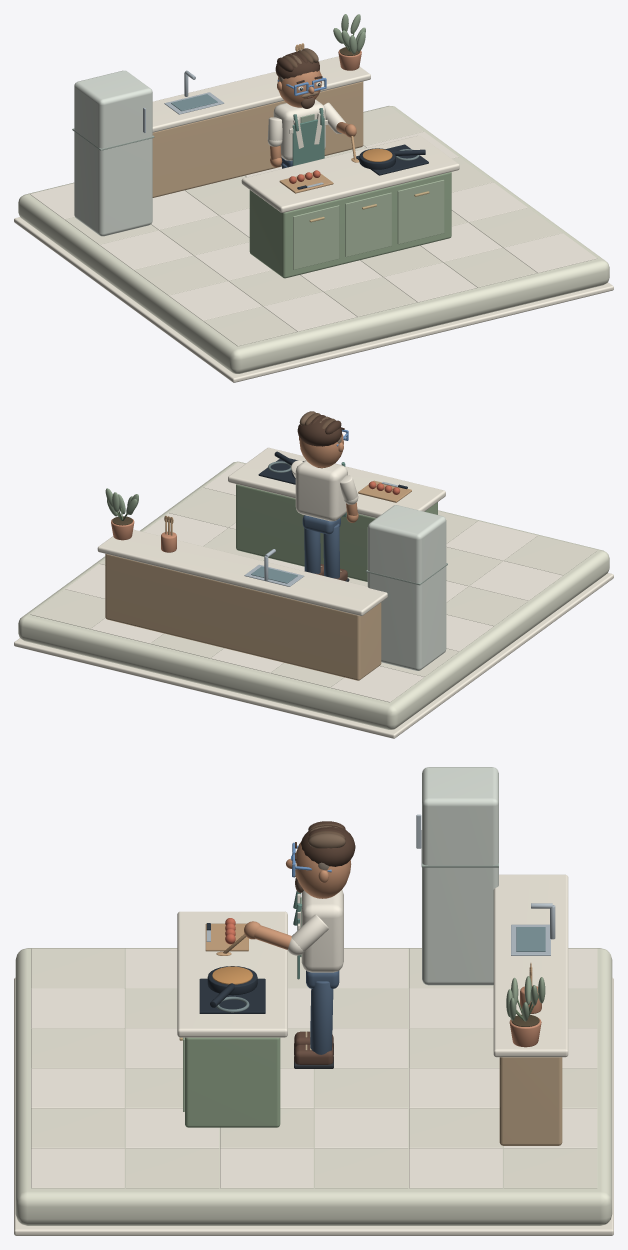
File: cooking.glb
3 renders of one model, top to bottom at view 1: azimuth 30°, elevation 25°; view 2: azimuth 150°, elevation 25°; view 3: azimuth 270°, elevation 25°, orthographic. The views are drawn at different scales.
Parts seen in each view (by area): view 1: Square floating plinth.005, Refrigerator, Oak cabinets, Marble worktop, Island cabinet, Ivory lower edge.005, Countertop, Cabinet front.002, Cabinet front, Cabinet front.001, Floor tile.011, Floor tile.023 (+27 smaller); view 2: Square floating plinth.005, Oak cabinets, Refrigerator, Countertop, Island cabinet, Ivory lower edge.005, Marble worktop, Jacket body.005, Floor tile.004, Floor tile.005, Floor tile.011, Floor tile.003 (+22 smaller); view 3: Square floating plinth.005, Refrigerator, Countertop, Marble worktop, Island cabinet, Ivory lower edge.005, Oak cabinets, Floor tile.026, Floor tile.030, Floor tile.032, Floor tile.034, Floor tile.020 (+37 smaller).
Boxes of the visible parts, x1=… form: Square floating plinth.005: x1=18, y1=106, x2=609, y2=373; Refrigerator: x1=74, y1=70, x2=152, y2=236; Oak cabinets: x1=152, y1=81, x2=363, y2=197; Marble worktop: x1=241, y1=135, x2=459, y2=212; Island cabinet: x1=249, y1=172, x2=451, y2=278; Ivory lower edge.005: x1=14, y1=217, x2=613, y2=382; Countertop: x1=152, y1=56, x2=370, y2=132; Cabinet front.002: x1=397, y1=179, x2=444, y2=244; Cabinet front: x1=293, y1=205, x2=339, y2=269; Cabinet front.001: x1=345, y1=192, x2=391, y2=256; Floor tile.011: x1=263, y1=292, x2=356, y2=331; Floor tile.023: x1=383, y1=262, x2=476, y2=302; Square floating plinth.005: x1=18, y1=461, x2=609, y2=729; Oak cabinets: x1=105, y1=554, x2=381, y2=680; Refrigerator: x1=367, y1=505, x2=446, y2=670; Countertop: x1=97, y1=529, x2=387, y2=615; Island cabinet: x1=236, y1=484, x2=437, y2=581; Ivory lower edge.005: x1=14, y1=573, x2=613, y2=738; Marble worktop: x1=228, y1=447, x2=445, y2=518; Jacket body.005: x1=295, y1=460, x2=347, y2=521; Floor tile.004: x1=469, y1=561, x2=562, y2=600; Floor tile.005: x1=504, y1=535, x2=597, y2=575; Floor tile.011: x1=446, y1=521, x2=537, y2=560; Floor tile.003: x1=446, y1=586, x2=527, y2=626; Square floating plinth.005: x1=15, y1=948, x2=612, y2=1225; Refrigerator: x1=422, y1=767, x2=498, y2=985; Countertop: x1=493, y1=874, x2=568, y2=1057; Marble worktop: x1=177, y1=911, x2=287, y2=1037; Island cabinet: x1=185, y1=1037, x2=280, y2=1127; Ivory lower edge.005: x1=14, y1=977, x2=613, y2=1235; Oak cabinets: x1=499, y1=1057, x2=562, y2=1145; Floor tile.026: x1=314, y1=1108, x2=408, y2=1148; Floor tile.030: x1=503, y1=1148, x2=597, y2=1188; Floor tile.032: x1=314, y1=1148, x2=408, y2=1188; Floor tile.034: x1=125, y1=1148, x2=219, y2=1188; Floor tile.020: x1=314, y1=1068, x2=408, y2=1108.
Size of the model in its own units: 5.53 by 2.81 by 5.53.
